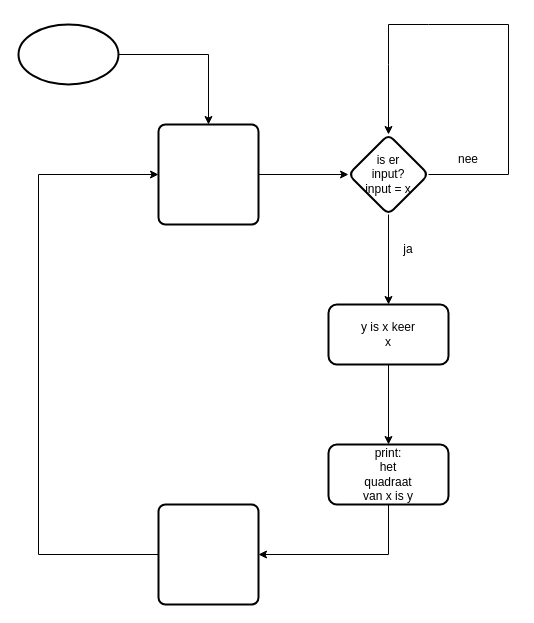
This 534x623 diagram has some shape labels left out. Each missing label, with the centre of its shape:
"delay 10000" belongs at (x=208, y=554).
"Serial vraag voor nummer om te quadrateren" belongs at (x=208, y=174).
